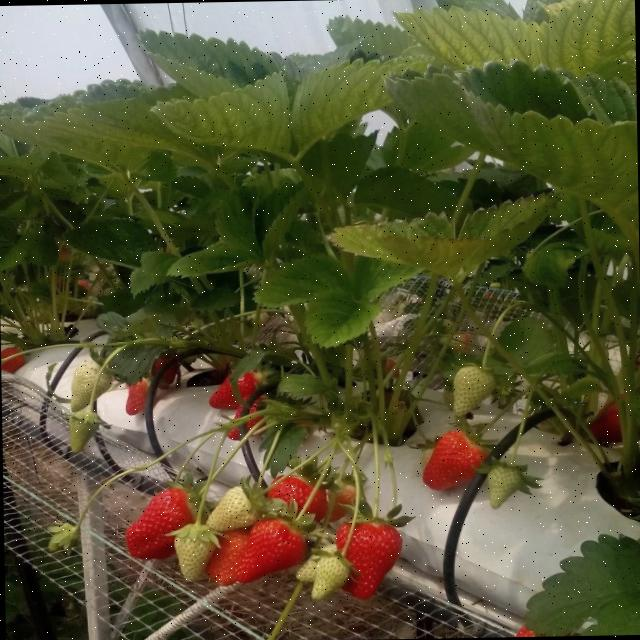Ripe Strawberry: (122, 488, 201, 562), (336, 514, 400, 602), (423, 418, 490, 491), (231, 514, 304, 580), (268, 473, 328, 538), (200, 524, 258, 588), (206, 364, 278, 412), (225, 390, 283, 446), (584, 392, 636, 448), (143, 337, 189, 392), (125, 373, 164, 416), (1, 344, 27, 376)
